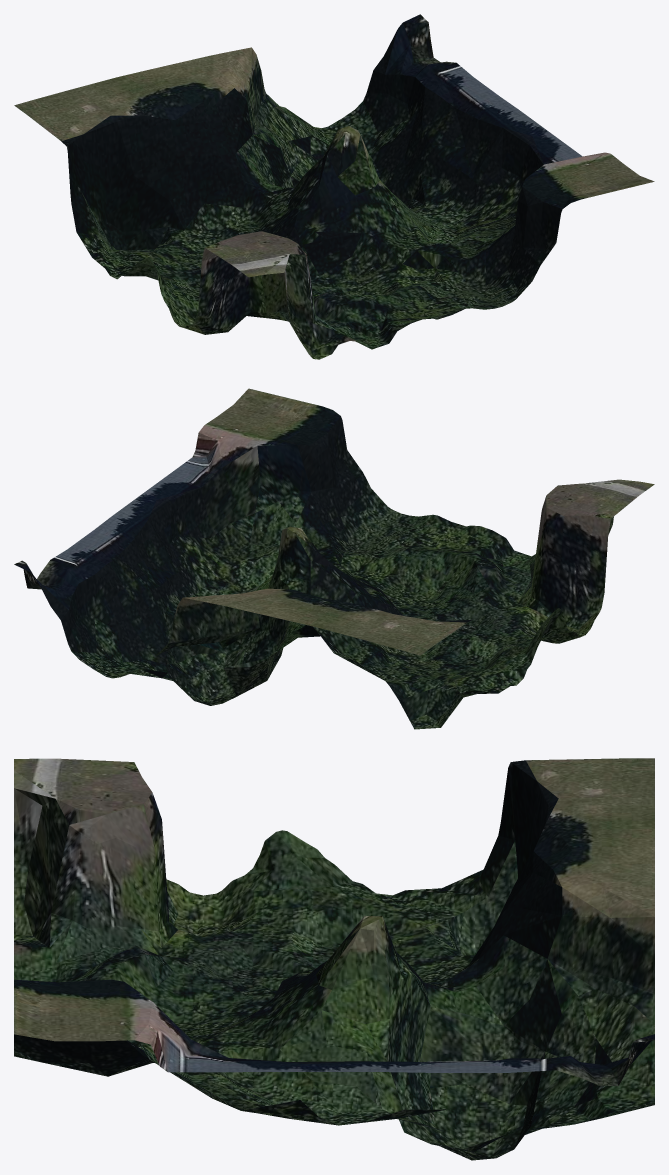
File: map_15_8178_13791.dae
3 renders of one model, top to bottom at view 1: azimuth 30°, elevation 25°; view 2: azimuth 150°, elevation 25°; view 3: azimuth 270°, elevation 25°, orthographic. The views are drawn at different scales.
Parts seen in each view (by area): view 1: Ter0; view 2: Ter0; view 3: Ter0.
Part boxes in pixels (x1,y1,x2,y2): Ter0: (14,14,654,359); Ter0: (14,388,654,729); Ter0: (14,758,654,1160).
Size of the model in its own units: 63.88 by 63.88 by 24.39.
Materials: 3 (3 with a texture image).
